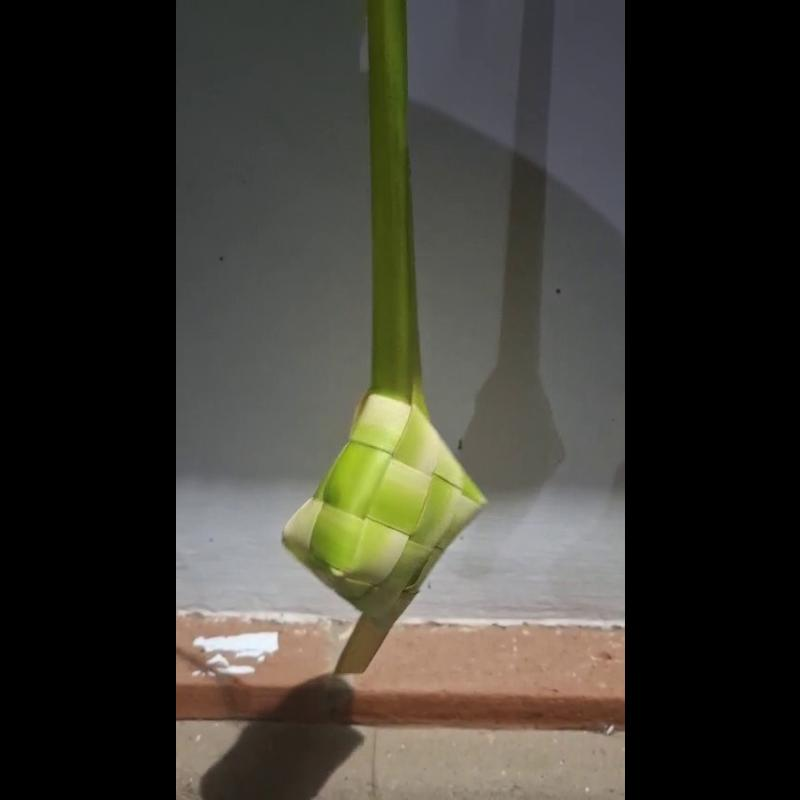Tipat Nasi: (280, 383, 493, 679)
